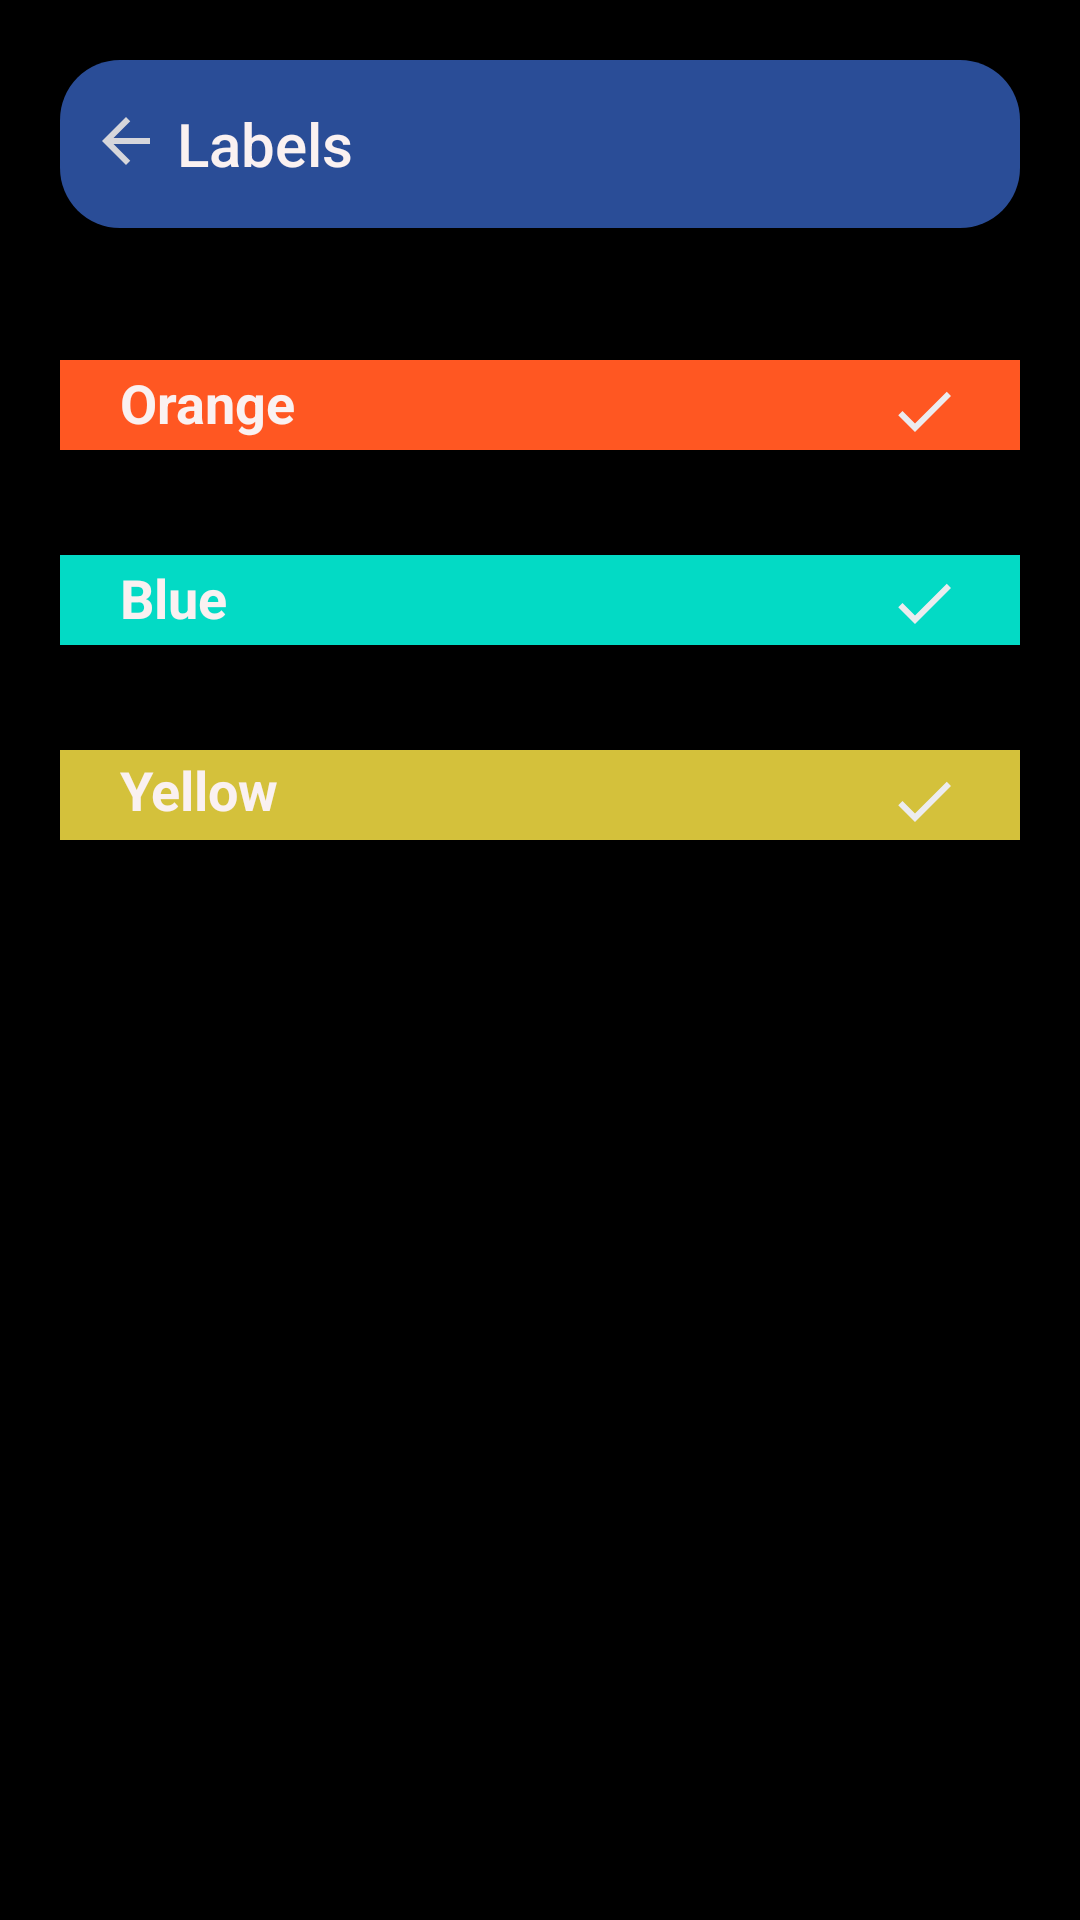

Icons on this 1080×1920 Android screen, each with its box as (x1, y1, x2, y2):
arrow back: (102, 117, 150, 165)
check: (898, 392, 951, 432), (898, 584, 951, 624), (898, 782, 951, 822)
